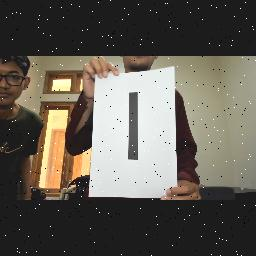i: (116, 85, 150, 167)
